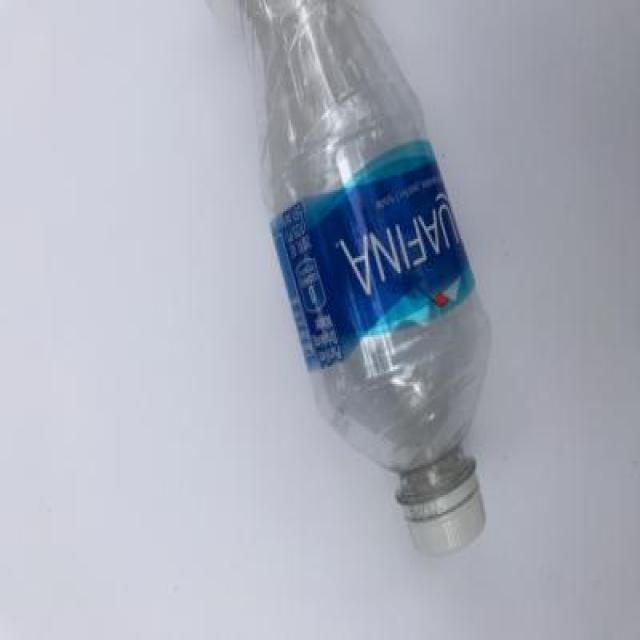plastic: (226, 0, 500, 562)
